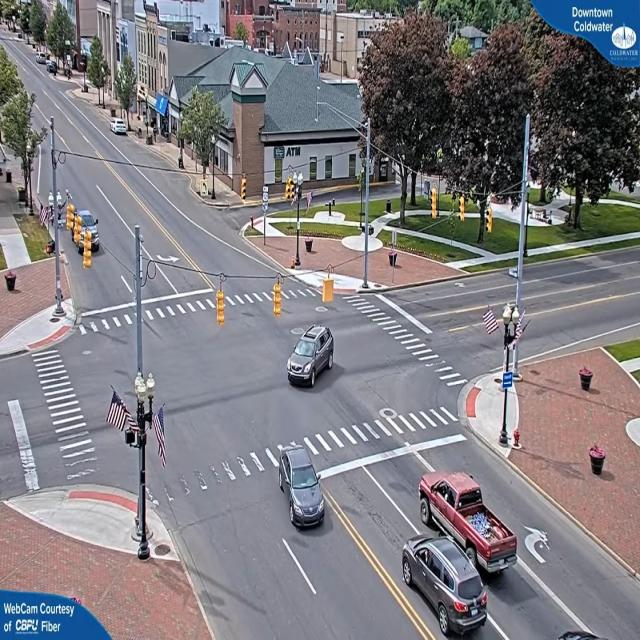car: (403, 534, 486, 632), (276, 448, 326, 528), (287, 326, 337, 390), (111, 119, 129, 136)
